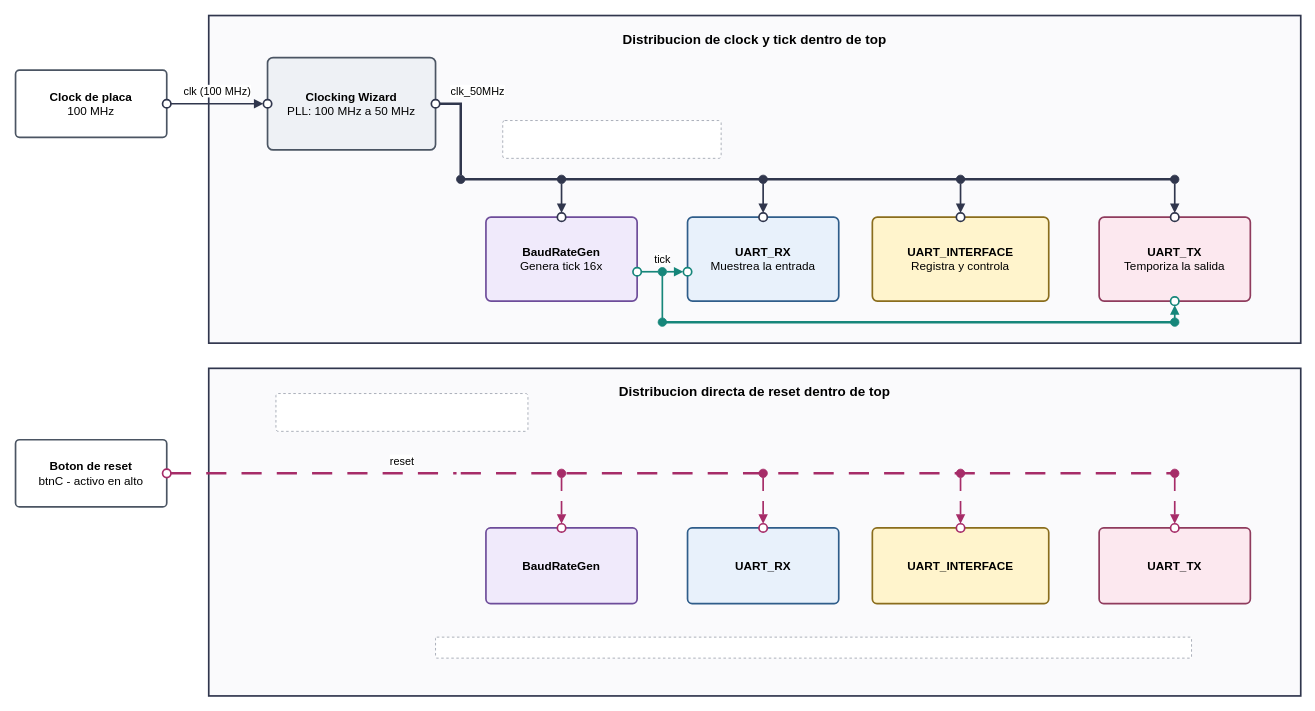
Image size: 1315x711. Some labels were removed from this diagram. The centre of each missing label's shape, as x and y in pixels:
"El Clocking Wizard no recibe el reset funcional." belongs at (x=611, y=139).
"La ALU no aparece: es combinacional y no recibe clk, reset ni tick." belongs at (x=813, y=647).
"top distribuye reset sin sincronizador ni antirrebote." belongs at (x=401, y=412).
